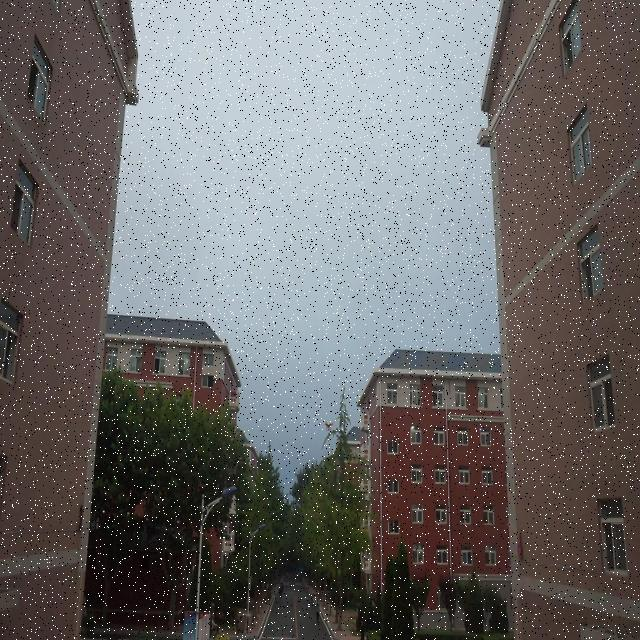UAV: (324, 422, 334, 431)
